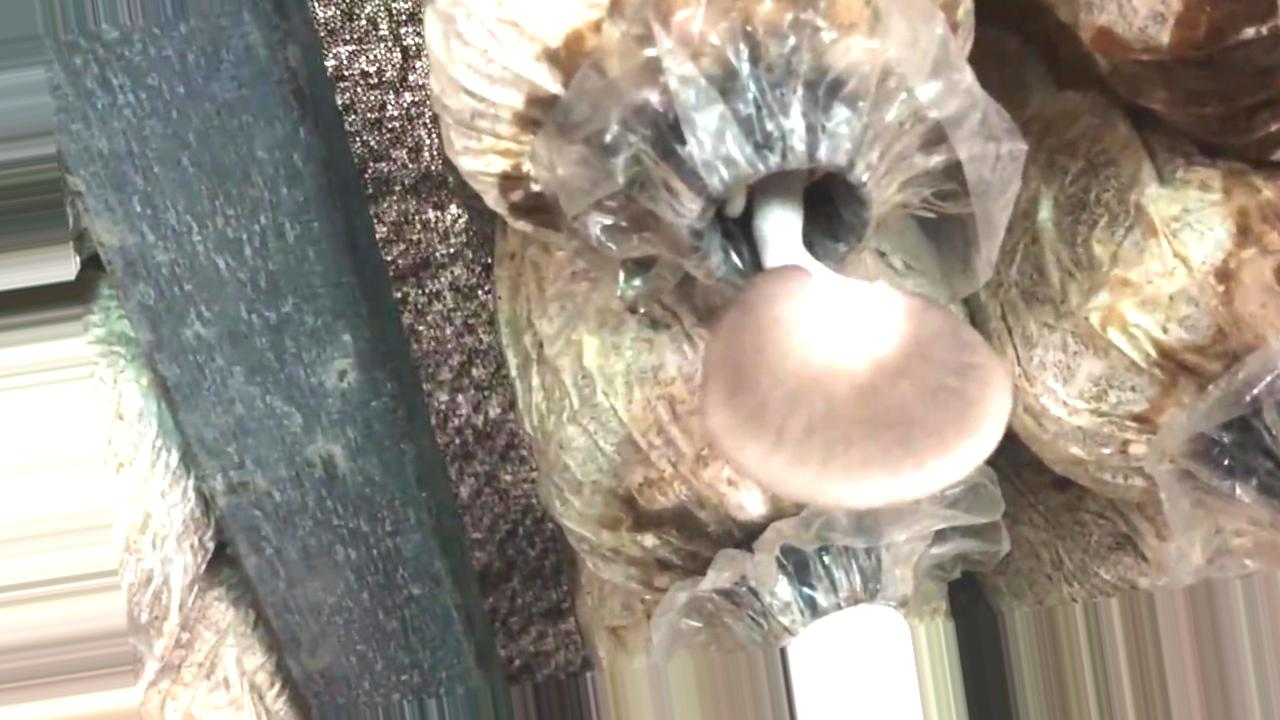nam: (660, 92, 1014, 516)
